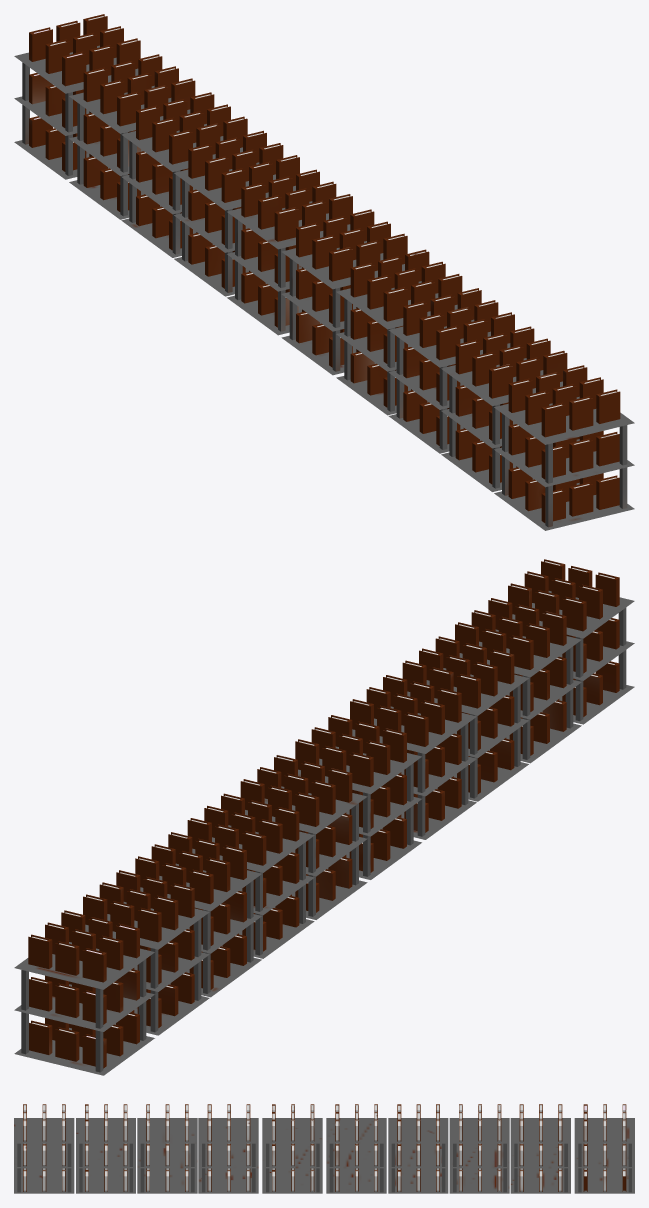
File: EstanteLibro.obj
3 views of the same model, one above another, from view 1: azimuth 30°, elevation 25°; view 2: azimuth 150°, elevation 25°; view 3: azimuth 270°, elevation 25° (orthographic). The views are drawn at different scales.
Parts seen in each view (by area): view 1: EstanteLibros; view 2: EstanteLibros; view 3: EstanteLibros.
Boxes of the visible parts, x1,y1,x2,y2 form: EstanteLibros: (14,14,634,530); EstanteLibros: (14,559,634,1075); EstanteLibros: (14,1104,634,1193).
Size of the model in its own units: 2 by 2.41 by 20.52.
1 material, 1 textured.
